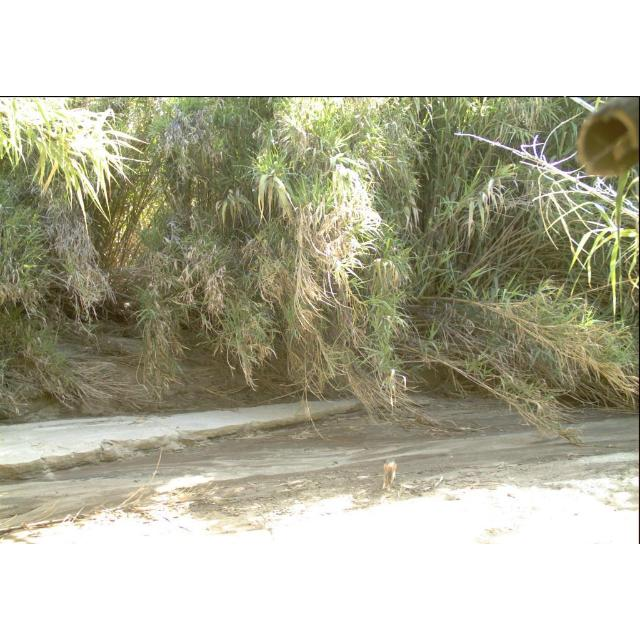animals: (381, 458, 403, 498)
